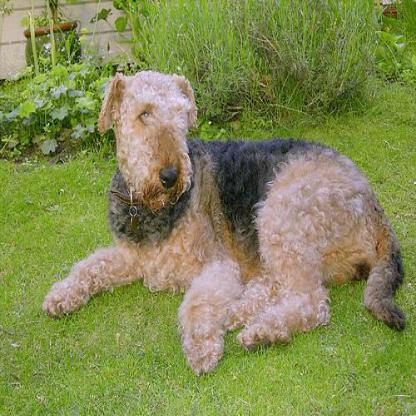dog: (77, 70, 397, 333)
